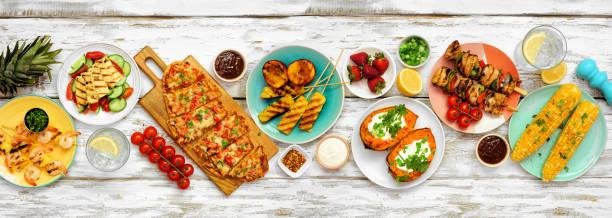Braised Crucian Carp: (135, 47, 279, 195), (244, 44, 344, 145), (507, 84, 606, 182), (351, 95, 446, 190), (427, 41, 521, 134), (56, 42, 142, 125), (0, 94, 75, 188)
